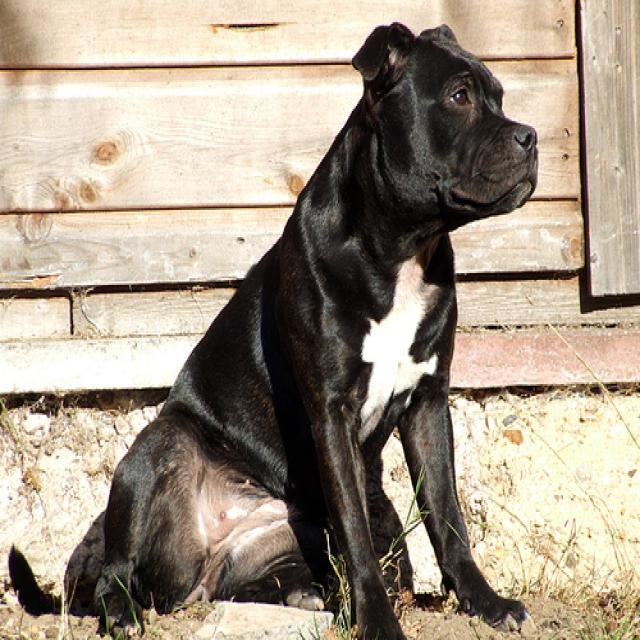dog: (351, 22, 536, 215)
